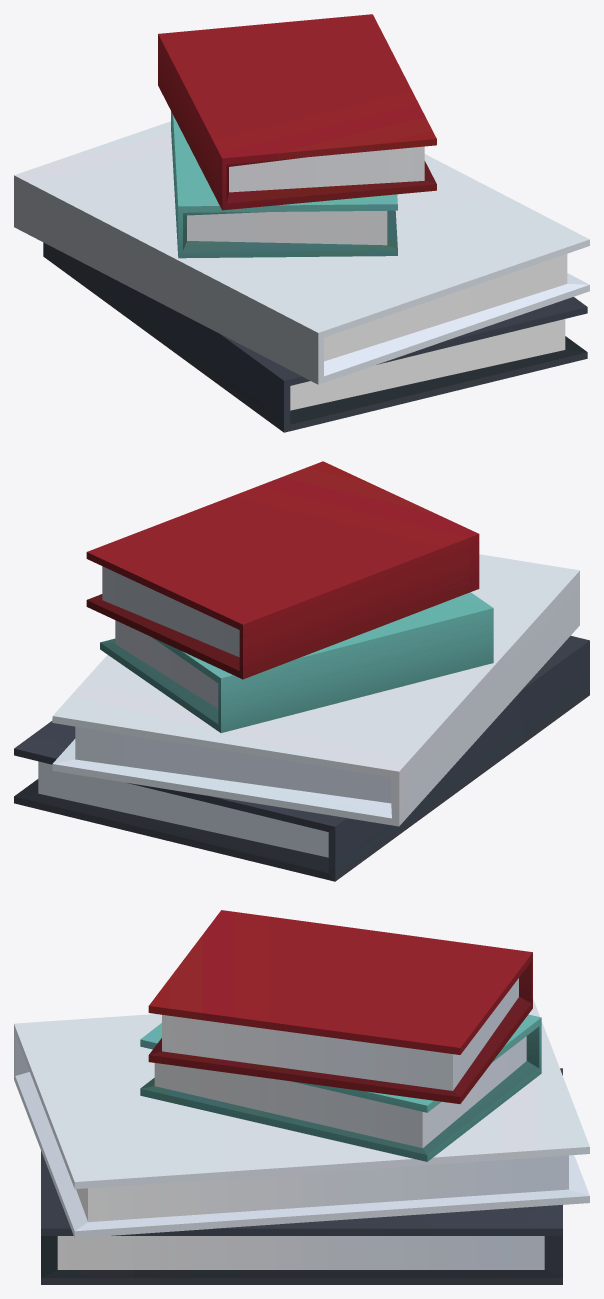
File: Books.fbx
The picture shows the model from 3 angles, top to bottom: view 1: azimuth 30°, elevation 25°; view 2: azimuth 150°, elevation 25°; view 3: azimuth 270°, elevation 25°; orthographic projection. The views are drawn at different scales.
Visible parts, largest first — view 1: node_id6, node_id10, node_id4, node_id8; view 2: node_id6, node_id10, node_id4, node_id8; view 3: node_id6, node_id10, node_id4, node_id8.
Part boxes in pixels (bbox=[...]): node_id6: bbox=[14, 121, 589, 384]; node_id10: bbox=[158, 14, 436, 210]; node_id4: bbox=[43, 242, 587, 432]; node_id8: bbox=[171, 111, 397, 258]; node_id6: bbox=[52, 554, 579, 826]; node_id10: bbox=[86, 461, 479, 679]; node_id4: bbox=[14, 636, 589, 881]; node_id8: bbox=[100, 592, 493, 732]; node_id6: bbox=[14, 999, 589, 1238]; node_id10: bbox=[148, 910, 532, 1103]; node_id4: bbox=[41, 1068, 562, 1284]; node_id8: bbox=[140, 1014, 541, 1161].
Size of the model in its own units: 0.512 by 0.278 by 0.6432.
